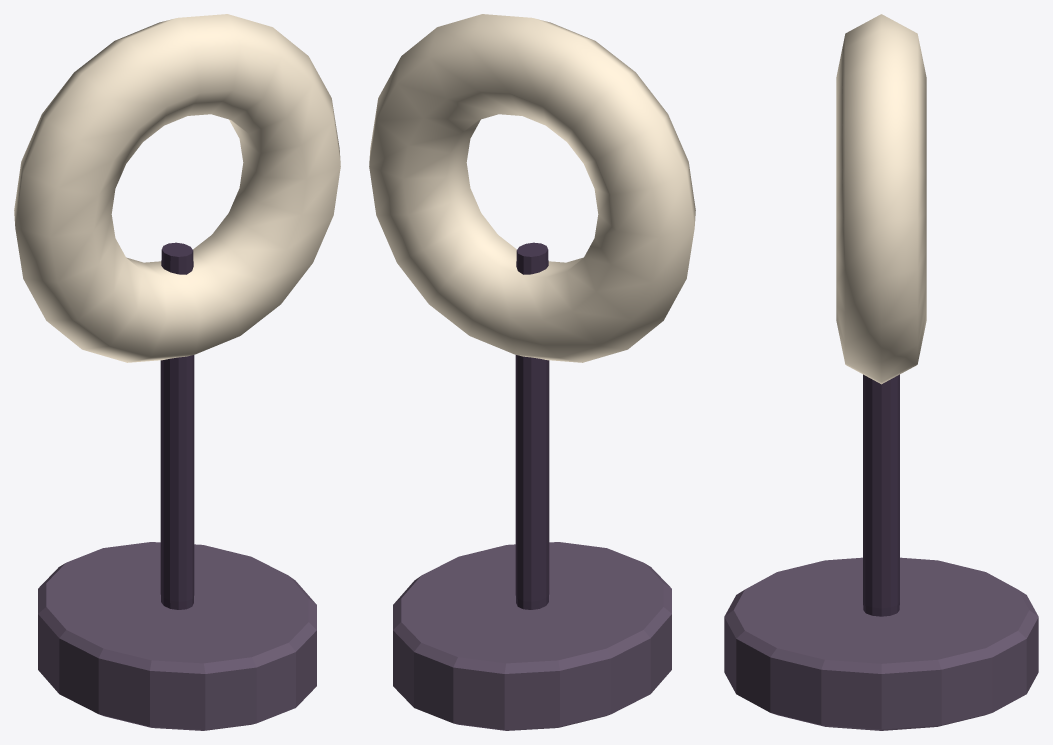
Rendered from ads_ring_light.glb.
3 views of the same model, side by side, from view 1: azimuth 30°, elevation 25°; view 2: azimuth 150°, elevation 25°; view 3: azimuth 270°, elevation 25° (orthographic).
Parts seen in each view (by area): view 1: model; view 2: model; view 3: model.
Boxes of the visible parts, x1=… form: model: x1=14, y1=14, x2=340, y2=730; model: x1=369, y1=14, x2=695, y2=730; model: x1=724, y1=14, x2=1038, y2=730.
Bounding box in the file's own units: 0.65 × 1.25 × 0.55.
